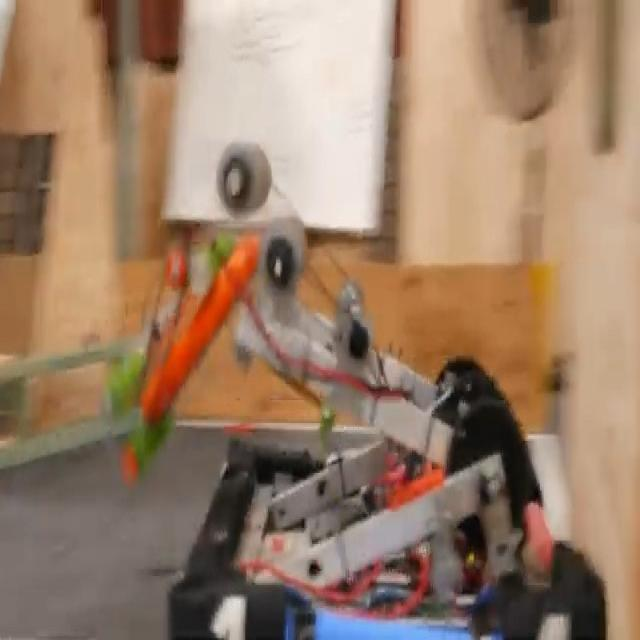note: (140, 236, 260, 425)
